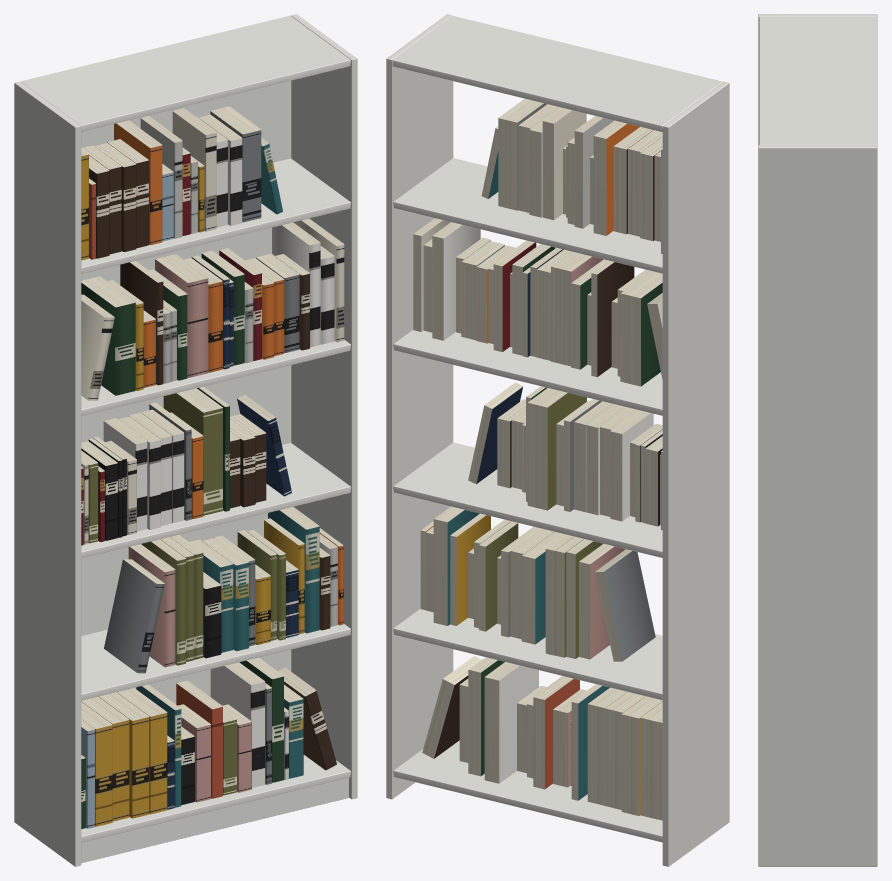
File: bookshelf_white.glb
The picture shows the model from 3 angles, left to right: view 1: azimuth 30°, elevation 25°; view 2: azimuth 150°, elevation 25°; view 3: azimuth 270°, elevation 25°; orthographic projection. The views are drawn at different scales.
Visible parts, largest first — view 1: shelf_filled_hard; view 2: shelf_filled_hard; view 3: shelf_filled_hard.
Boxes of the visible parts, <box> form: shelf_filled_hard: <box>14,14,357,866</box>; shelf_filled_hard: <box>386,14,729,866</box>; shelf_filled_hard: <box>758,14,877,866</box>.
Size of the model in its own units: 0.7999 by 2 by 0.3001.
Materials: 2 (1 with a texture image).
